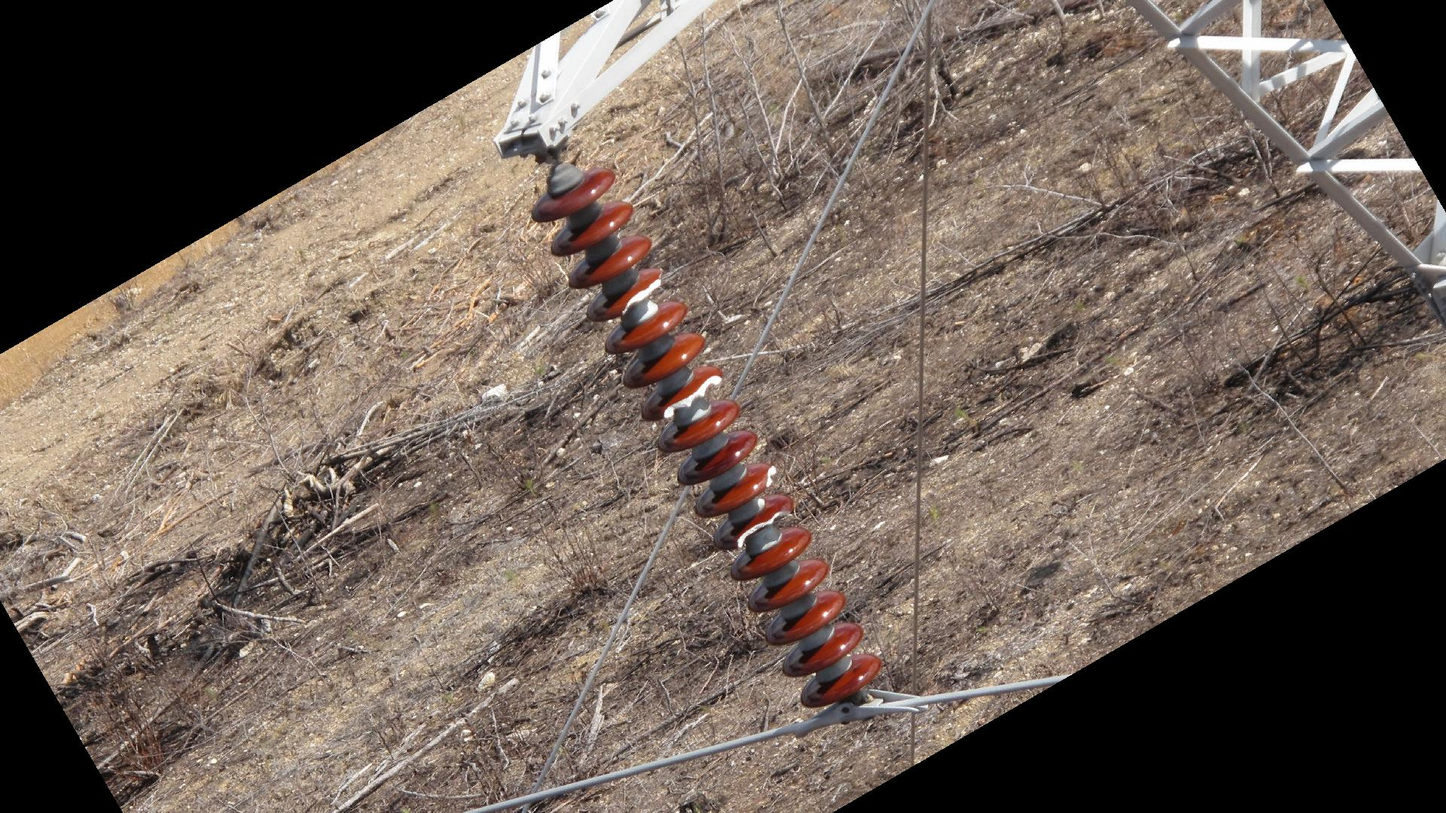insulator: (525, 165, 885, 712)
insulator_breakage: (658, 371, 725, 422), (733, 504, 794, 551), (615, 265, 666, 318), (759, 462, 780, 493)
